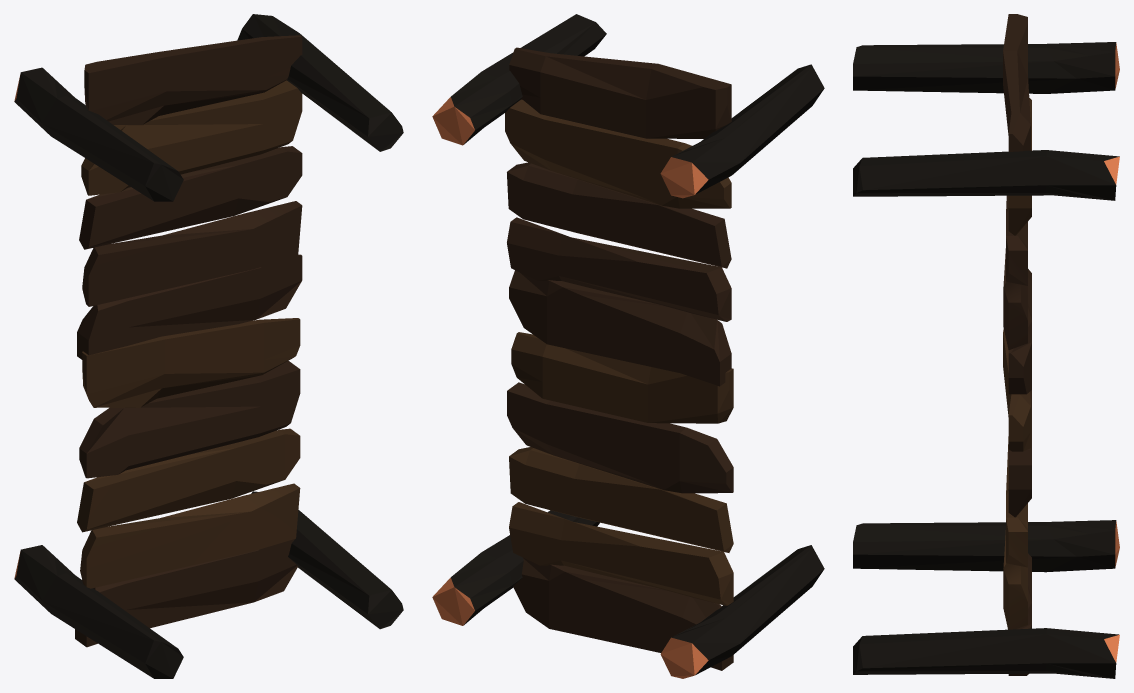
File: Pontoon_02.FBX
3 views of the same model, side by side, from view 1: azimuth 30°, elevation 25°; view 2: azimuth 150°, elevation 25°; view 3: azimuth 270°, elevation 25° (orthographic).
Visible parts, largest first — view 1: Pontoon_02; view 2: Pontoon_02; view 3: Pontoon_02.
Boxes of the visible parts, x1,y1,x2,y2 form: Pontoon_02: (14, 14, 403, 678); Pontoon_02: (432, 14, 824, 678); Pontoon_02: (853, 14, 1119, 678).
Bounding box in the file's own units: 2.42 × 4.9 × 2.06.
